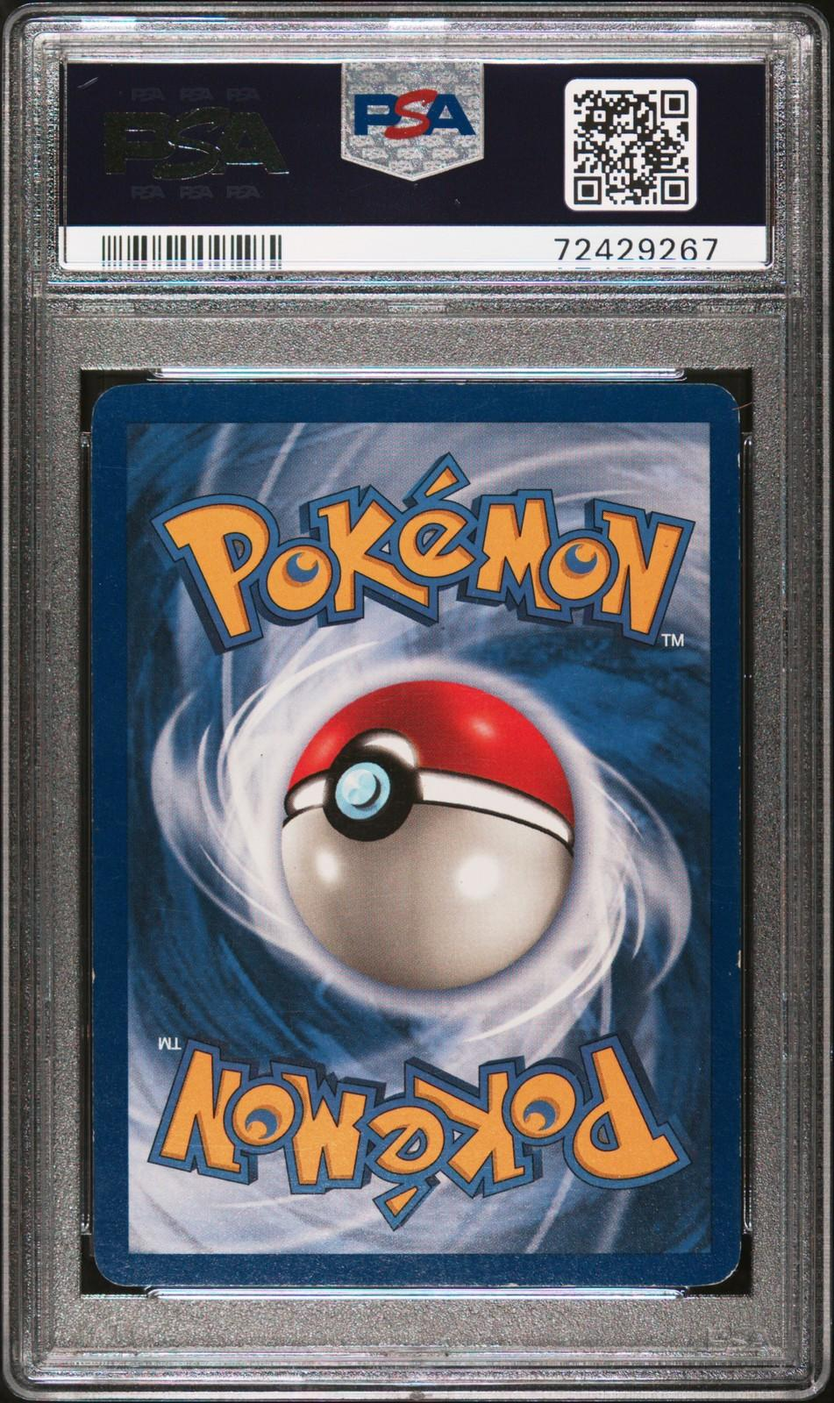card-2UtV: (90, 382, 742, 1288)
